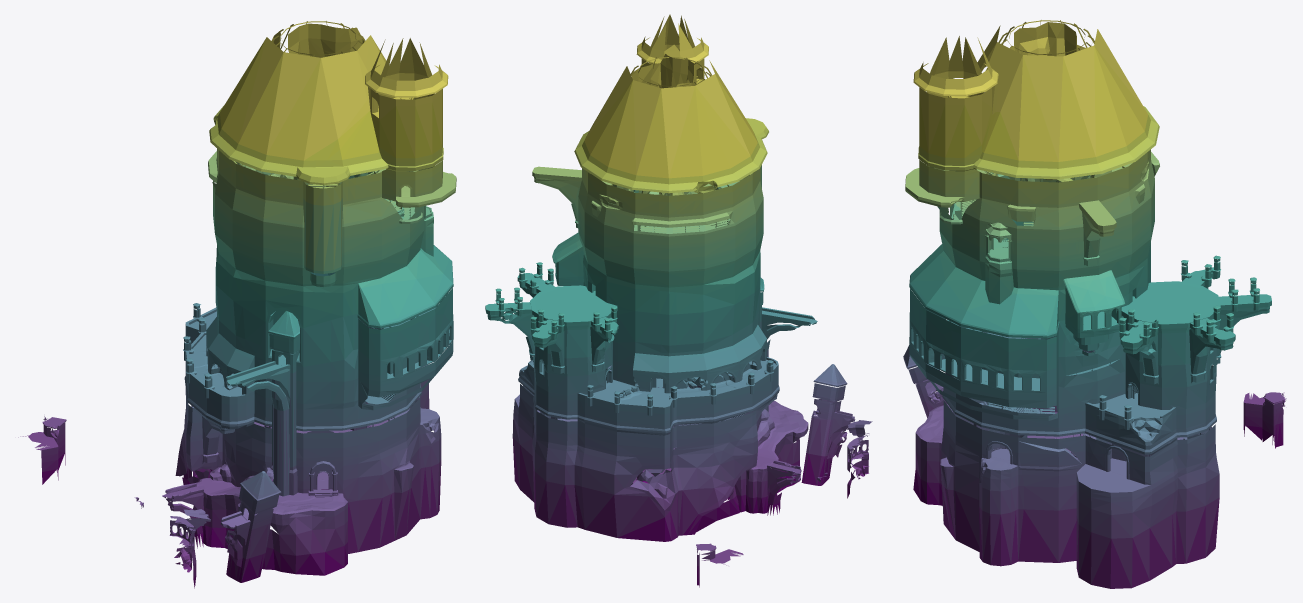
The model's file is 300_LIB.glb.
3 renders of one model, left to right at view 1: azimuth 30°, elevation 25°; view 2: azimuth 150°, elevation 25°; view 3: azimuth 270°, elevation 25°, orthographic. The views are drawn at different scales.
Parts seen in each view (by area): view 1: walls, floors; view 2: walls, floors; view 3: walls, floors.
Boxes of the visible parts, left/top/right/bottom form: walls: left=41, top=21, right=456, bottom=588; floors: left=18, top=35, right=455, bottom=572; walls: left=485, top=14, right=868, bottom=587; floors: left=485, top=23, right=872, bottom=565; walls: left=904, top=20, right=1285, bottom=588; floors: left=903, top=25, right=1286, bottom=492.
Size of the model in its own units: 144 by 208 by 143.
